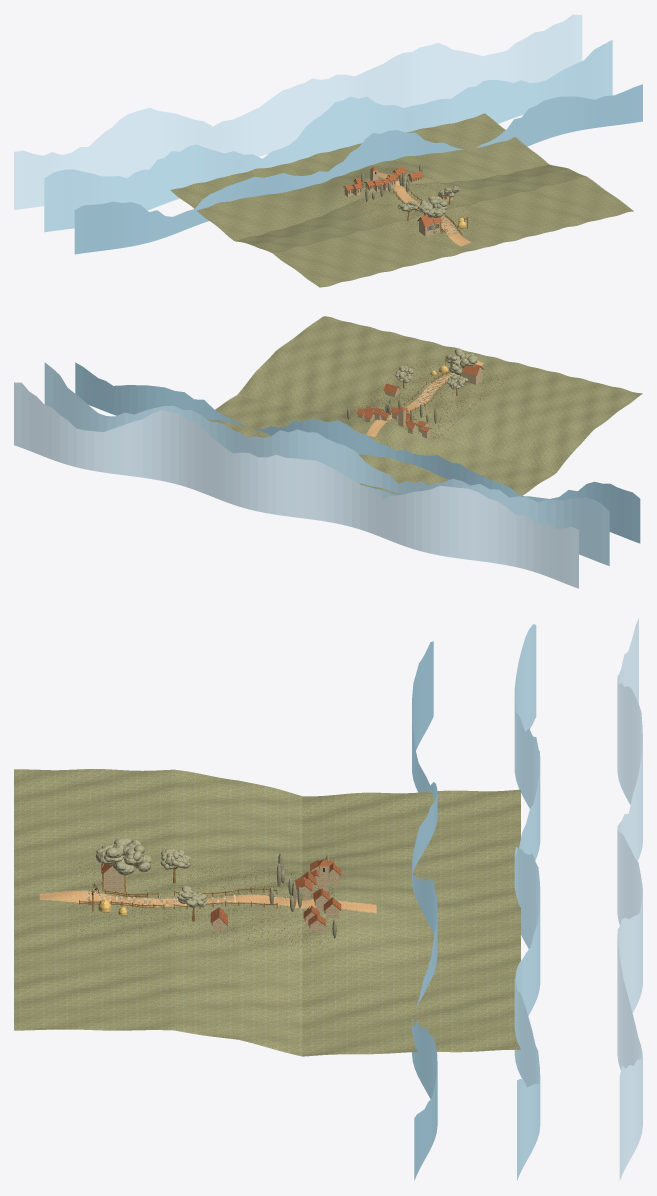
File: chapter2.glb
3 renders of one model, top to bottom at view 1: azimuth 30°, elevation 25°; view 2: azimuth 150°, elevation 25°; view 3: azimuth 270°, elevation 25°, orthographic. The views are drawn at different scales.
Visible parts, largest first — view 1: Country Lane Environment; view 2: Country Lane Environment; view 3: Country Lane Environment.
Boxes of the visible parts, left/top/right/bottom form: Country Lane Environment: left=14, top=14, right=642, bottom=287; Country Lane Environment: left=14, top=316, right=642, bottom=588; Country Lane Environment: left=14, top=618, right=642, bottom=1180.
Size of the model in its own units: 172 by 20.43 by 98.
33 materials, 29 textured.
